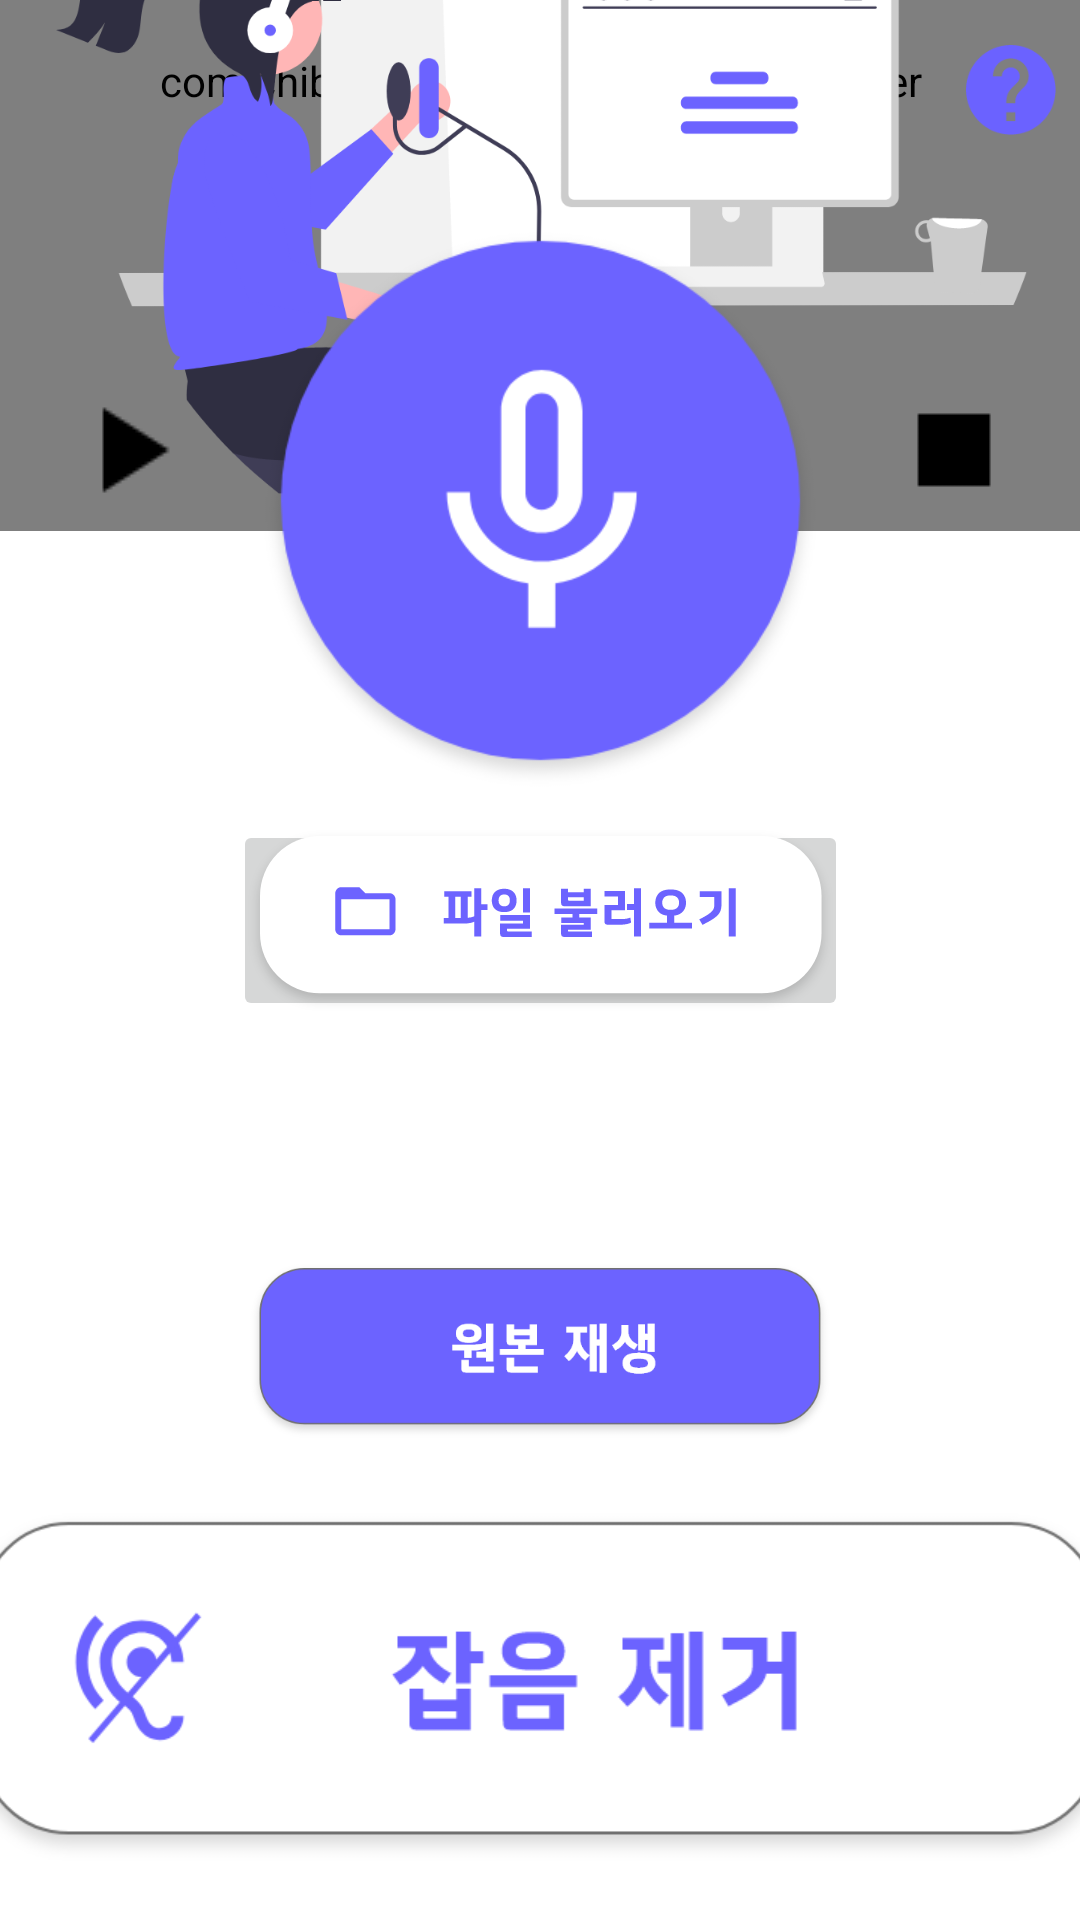

Icon click points for this 1080 x 1920 phone screenshot, format [x,y]:
audio stop: [954,450]
help: [1011,90]
